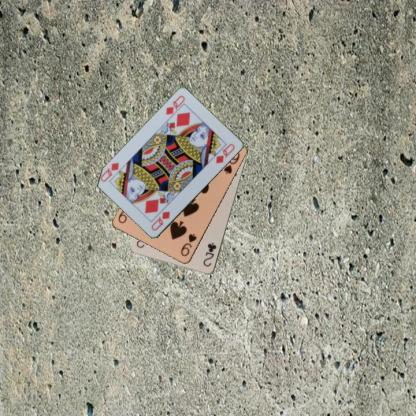2c: (200, 240, 218, 268)
9s: (178, 231, 198, 258)
Qd: (163, 93, 186, 121), (149, 209, 171, 232)
